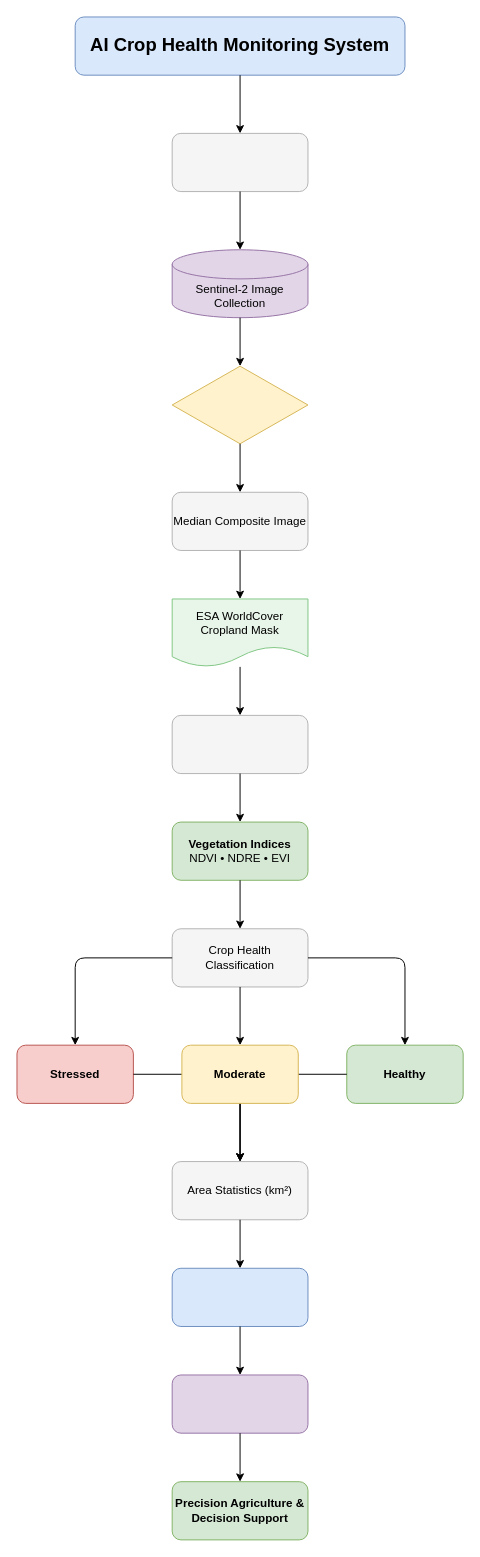
Image size: 480x1557. Some labels were removed from this diagram. The shapes that lost their labels are listed below. From the top down, each one's centre as x and y in pixels, then its label:
point 239,162: Study Area Selection
point 239,404: Cloud Filtering
point 239,744: Cropland RGB Visualization
point 239,1296: Results Dashboard
point 239,1403: Google Gemini AI Report Generation
